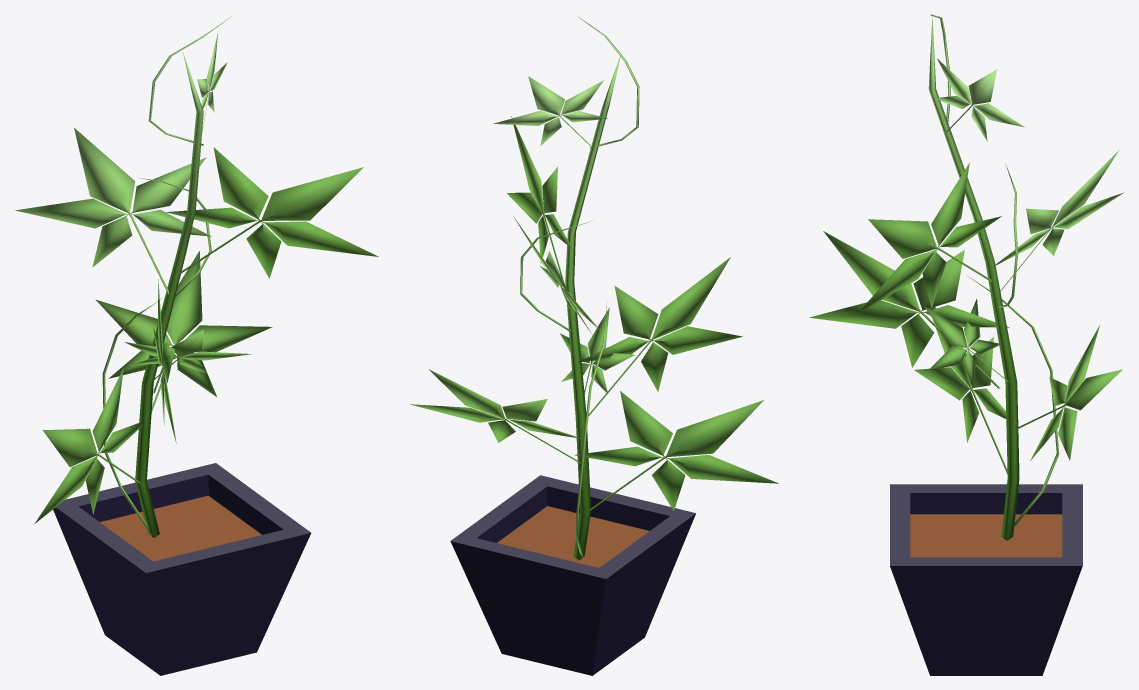
File: pfp21.fbx
3 views of the same model, side by side, from view 1: azimuth 30°, elevation 25°; view 2: azimuth 150°, elevation 25°; view 3: azimuth 270°, elevation 25° (orthographic). The views are drawn at different scales.
Visible parts, largest first — view 1: pfp21; view 2: pfp21; view 3: pfp21.
Boxes of the visible parts, x1,y1,x2,y2 form: pfp21: (15, 16, 378, 675); pfp21: (410, 16, 778, 675); pfp21: (809, 14, 1123, 675).
Size of the model in its own units: 38.66 by 74.83 by 32.99.
